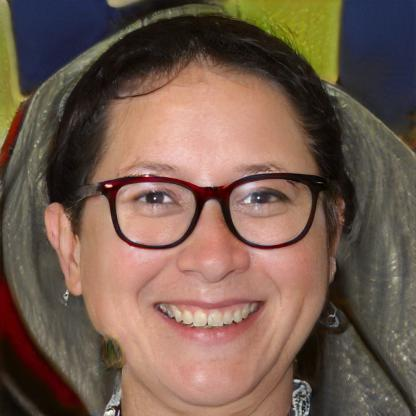glasses: (93, 169, 325, 253)
